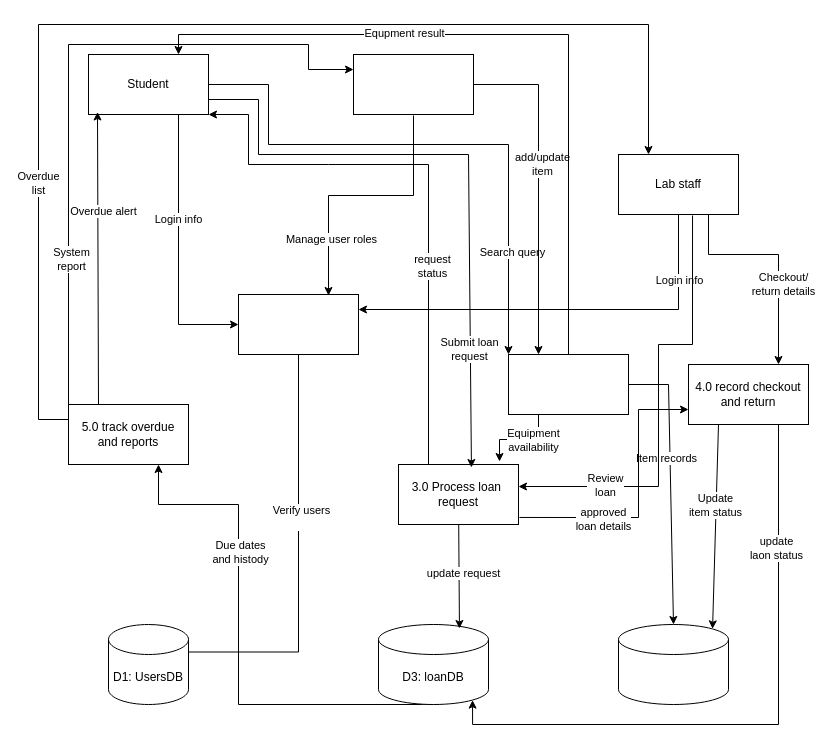
The diagram is 832 pixels wide and 750 high, and some of its shapes have lost their labels. The box of each missing label's shape, as (x1, y1, x2, y2) in pixels:
1.0 Authenticate users: (238, 294, 358, 354)
2.0 Manage equipment: (508, 354, 628, 414)
Admin: (352, 54, 474, 114)
D2: EquipmentDB: (618, 624, 728, 704)
